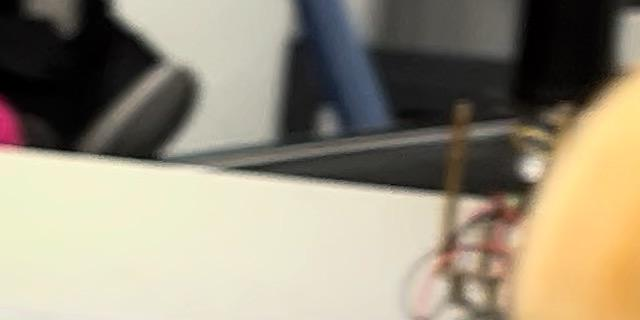burger: (507, 0, 640, 320)
